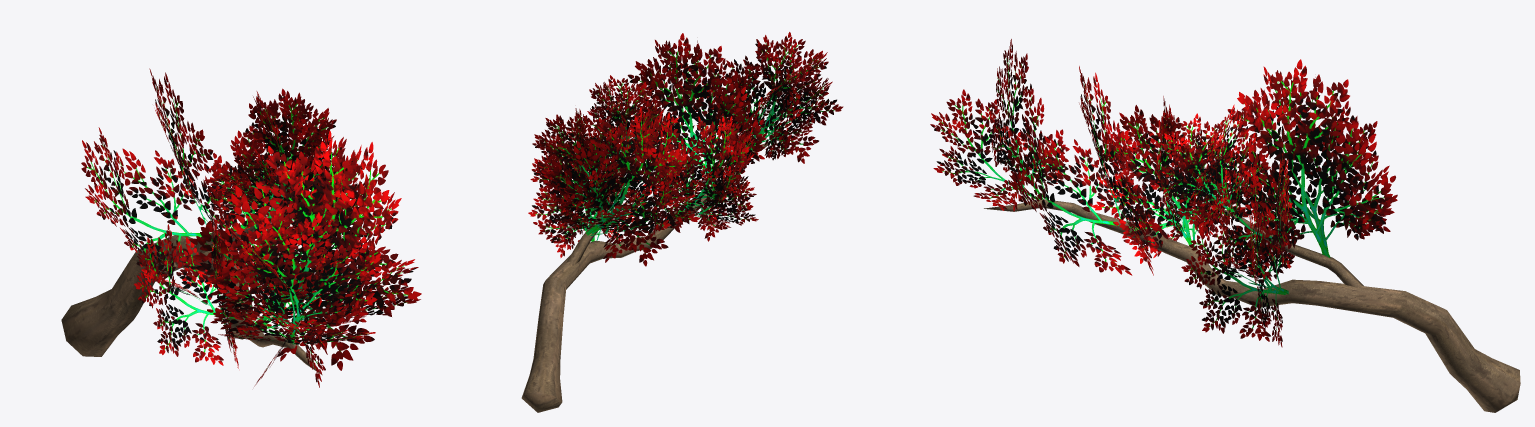
File: Tree_Bent_01.fbx
The picture shows the model from 3 angles, left to right: view 1: azimuth 30°, elevation 25°; view 2: azimuth 150°, elevation 25°; view 3: azimuth 270°, elevation 25°; orthographic projection. The views are drawn at different scales.
Parts seen in each view (by area): view 1: Tree_Bent_01_LOD0; view 2: Tree_Bent_01_LOD0; view 3: Tree_Bent_01_LOD0.
Part boxes in pixels (x1,y1,x2,y2): Tree_Bent_01_LOD0: (61, 68, 421, 387); Tree_Bent_01_LOD0: (521, 32, 843, 412); Tree_Bent_01_LOD0: (930, 39, 1520, 412).
Size of what is drawn, in the model's own units: 6.95 by 7.88 by 11.77.
1 material, 1 textured.
